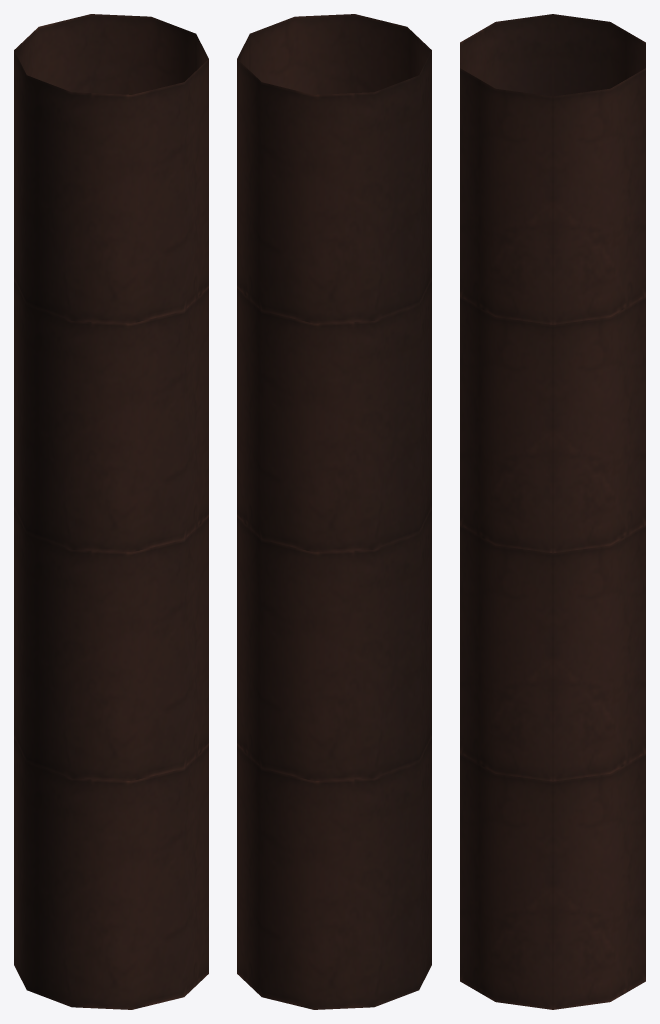
The model's file is huoshan_Wujian_05.FBX.
3 views of the same model, side by side, from view 1: azimuth 30°, elevation 25°; view 2: azimuth 150°, elevation 25°; view 3: azimuth 270°, elevation 25° (orthographic).
Parts seen in each view (by area): view 1: huoshan_Wujian_05; view 2: huoshan_Wujian_05; view 3: huoshan_Wujian_05.
Part boxes in pixels (box(x1,y1,x2,y2)): huoshan_Wujian_05: box(14, 14, 208, 1009); huoshan_Wujian_05: box(237, 14, 431, 1009); huoshan_Wujian_05: box(460, 14, 645, 1009).
Size of the model in its own units: 149 by 771 by 142.
